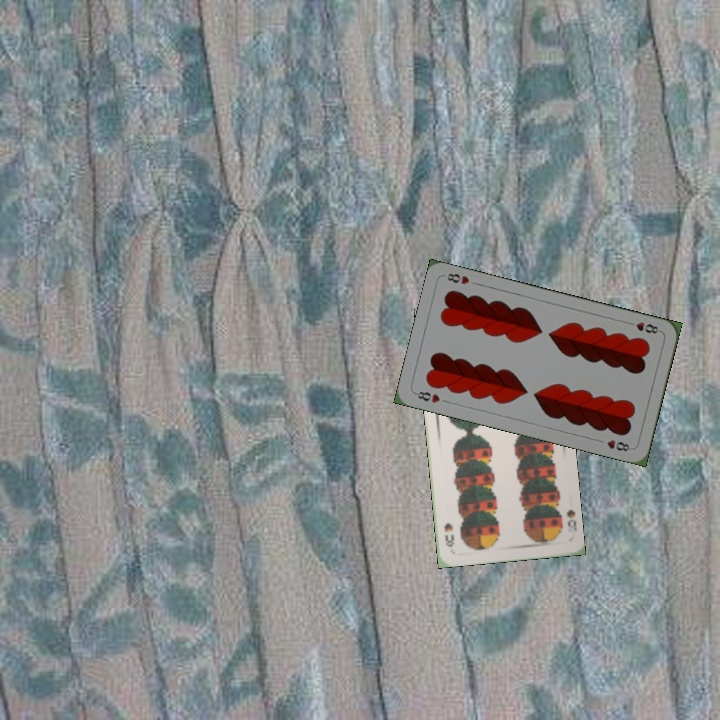H8: (623, 318, 663, 336), (411, 387, 443, 406)
S8: (563, 505, 579, 534)
